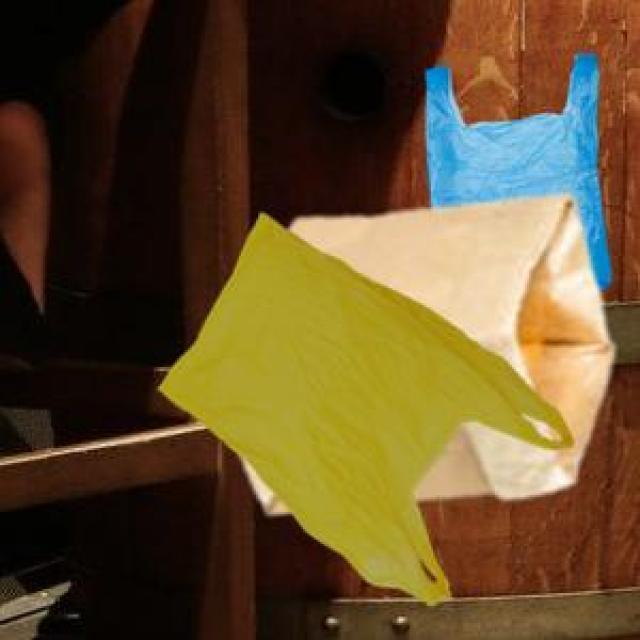paper: (240, 190, 608, 510)
